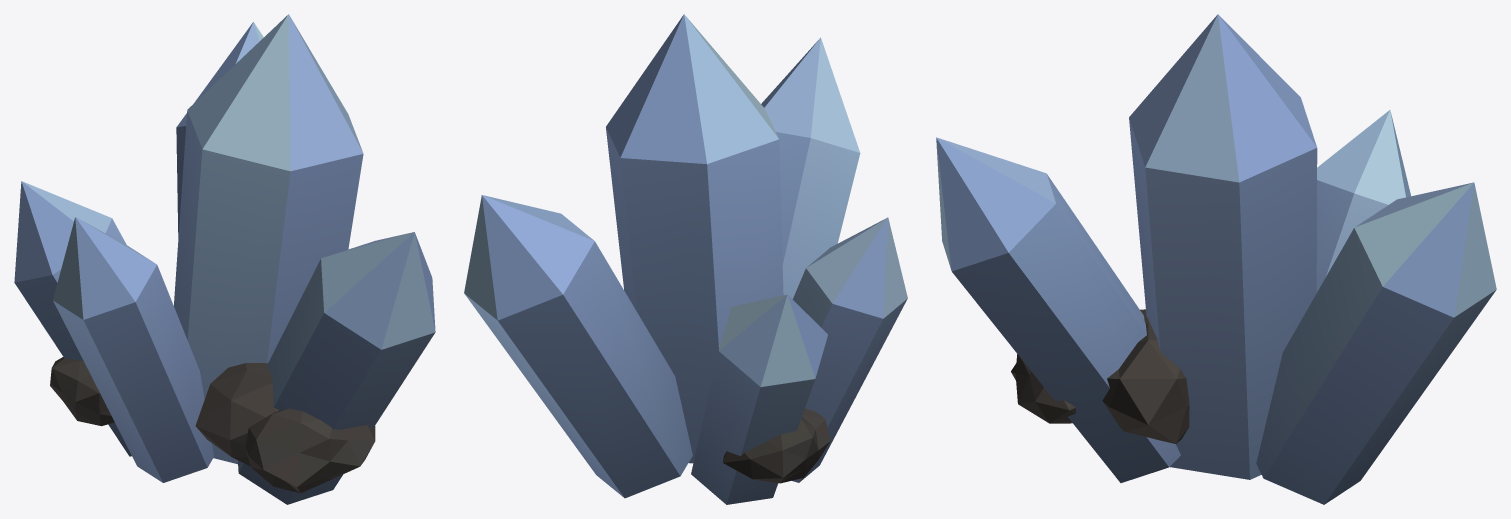
Rendered from crystal_star_b.glb.
3 renders of one model, left to right at view 1: azimuth 30°, elevation 25°; view 2: azimuth 150°, elevation 25°; view 3: azimuth 270°, elevation 25°, orthographic. The views are drawn at different scales.
Parts seen in each view (by area): view 1: crystal_star_b_crystal, crystal_star_b_solid; view 2: crystal_star_b_crystal, crystal_star_b_solid; view 3: crystal_star_b_crystal, crystal_star_b_solid.
Part boxes in pixels (<box>): crystal_star_b_crystal: <box>14,14,435,504</box>; crystal_star_b_solid: <box>50,357,375,493</box>; crystal_star_b_crystal: <box>464,14,907,504</box>; crystal_star_b_solid: <box>723,408,830,483</box>; crystal_star_b_crystal: <box>936,14,1496,504</box>; crystal_star_b_solid: <box>1011,309,1189,443</box>.
Bounding box in the file's own units: 1.08 × 1.37 × 1.48.
